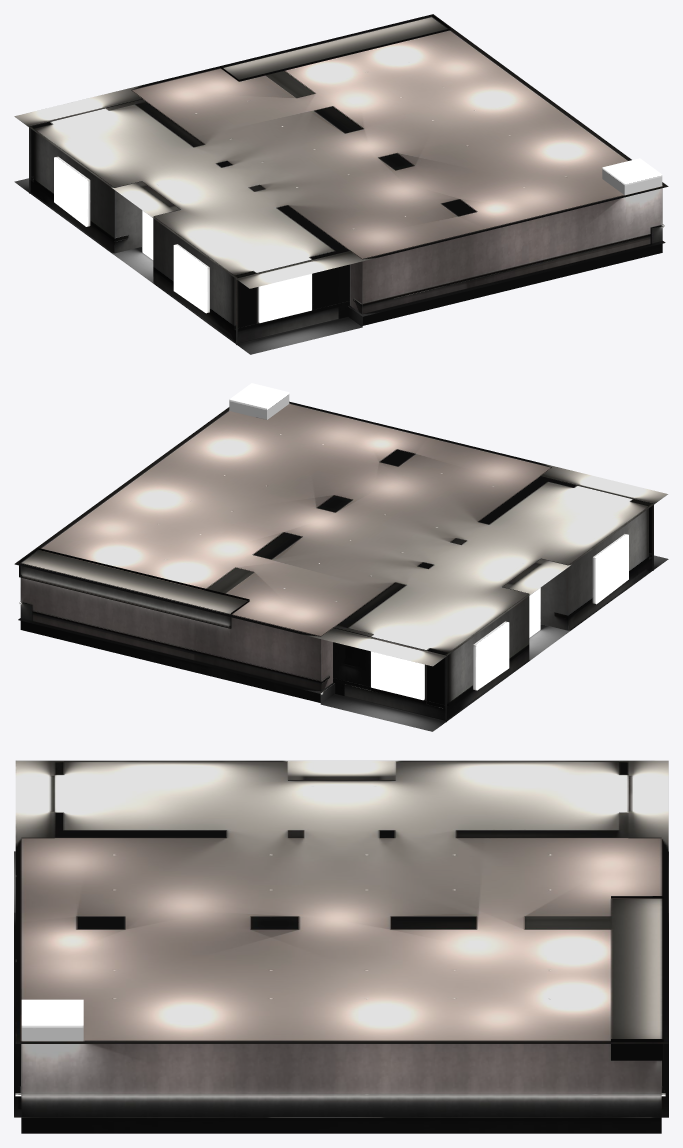
The model's file is BigRoomH.glb.
The picture shows the model from 3 angles, top to bottom: view 1: azimuth 30°, elevation 25°; view 2: azimuth 150°, elevation 25°; view 3: azimuth 270°, elevation 25°; orthographic projection. The views are drawn at different scales.
Parts seen in each view (by area): view 1: pCube8.001; view 2: pCube8.001; view 3: pCube8.001.
Part boxes in pixels (bbox=[...]): pCube8.001: bbox=[14, 14, 668, 354]; pCube8.001: bbox=[14, 383, 668, 731]; pCube8.001: bbox=[14, 760, 668, 1133].
Size of the model in its own units: 0.6012 by 0.1066 by 0.5841.
2 materials, 1 textured.
